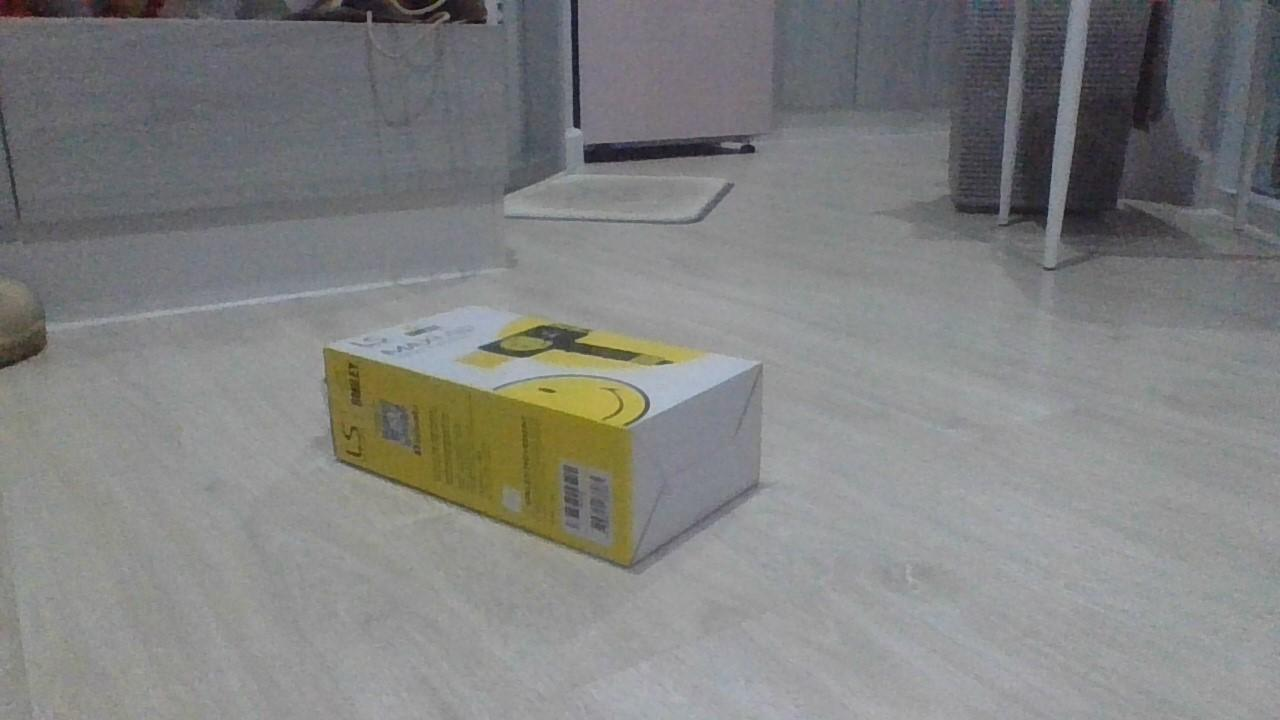Dryer: (319, 299, 769, 571)
